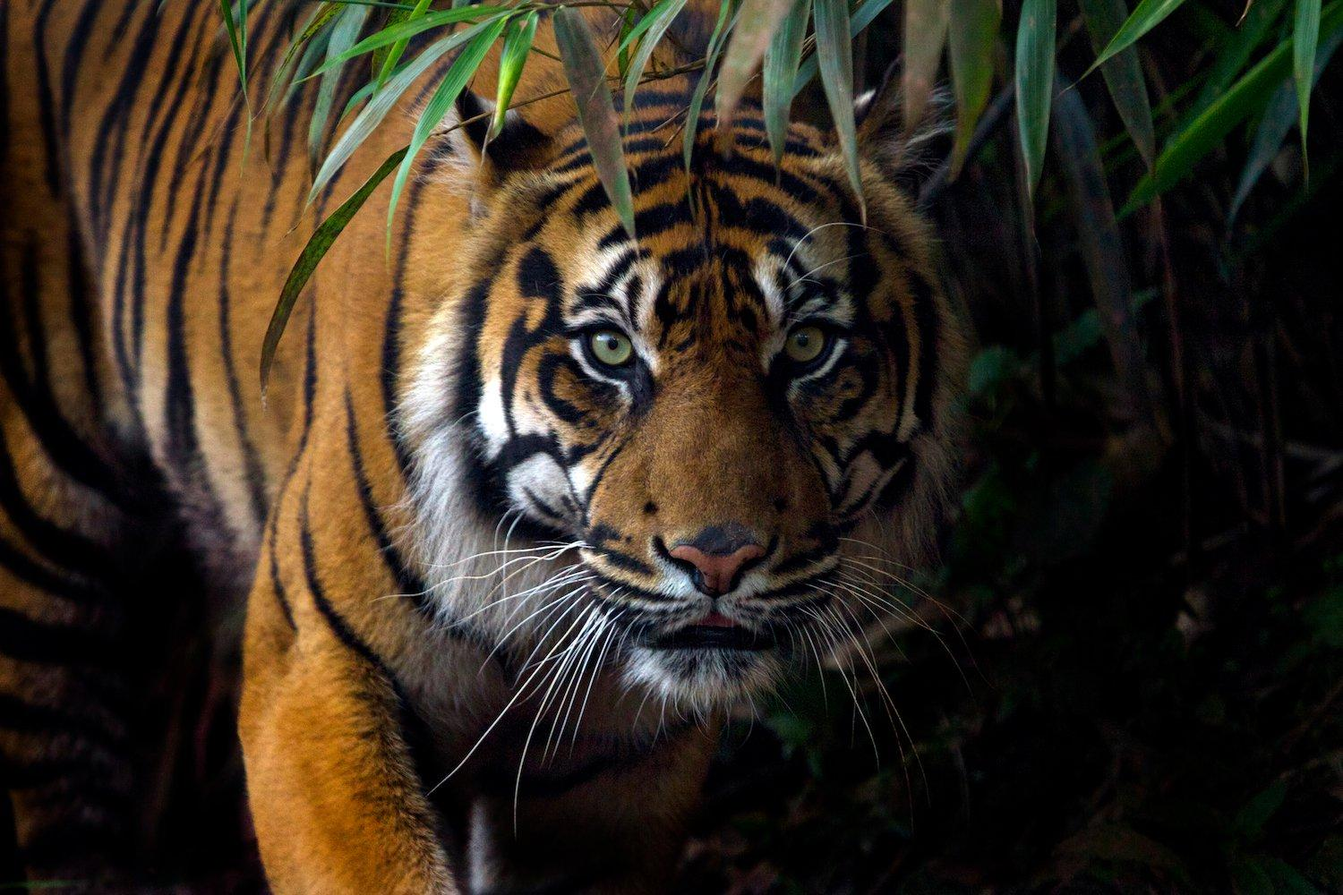Tiger: (0, 0, 969, 894), (246, 3, 315, 98)
